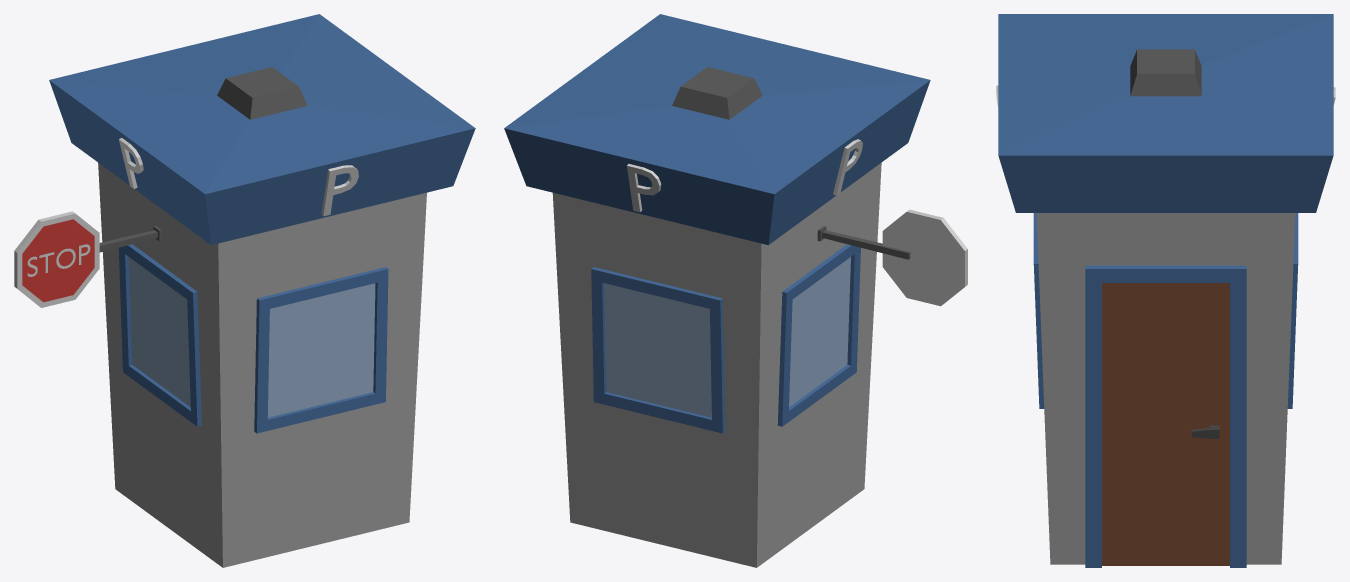
Rendered from ParkingBox_01.fbx.
3 views of the same model, side by side, from view 1: azimuth 30°, elevation 25°; view 2: azimuth 150°, elevation 25°; view 3: azimuth 270°, elevation 25° (orthographic). The views are drawn at different scales.
Visible parts, largest first — view 1: ParkingBox_01; view 2: ParkingBox_01; view 3: ParkingBox_01.
Part boxes in pixels (x1=…): ParkingBox_01: x1=14, y1=14, x2=475, y2=567; ParkingBox_01: x1=504, y1=14, x2=967, y2=567; ParkingBox_01: x1=996, y1=14, x2=1335, y2=567.
Size of the model in its own units: 297 by 314 by 212.
